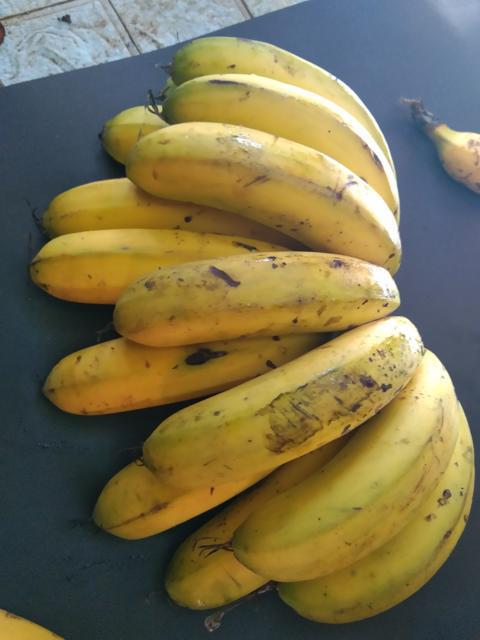ripe: (141, 310, 444, 496), (242, 373, 479, 576), (138, 128, 419, 291), (172, 65, 409, 228), (92, 234, 397, 332), (36, 321, 214, 426), (84, 450, 270, 548), (26, 222, 205, 292)
